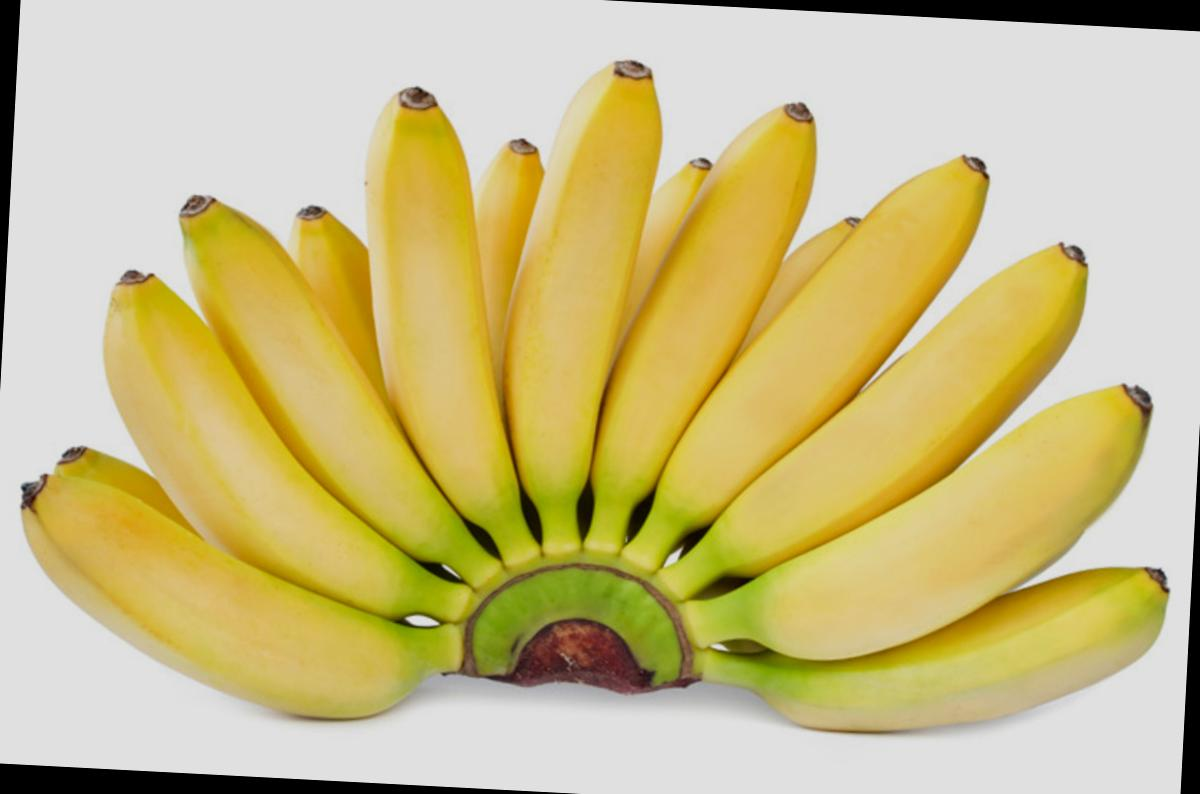Banana Ripe: (324, 21, 1198, 748), (14, 145, 574, 726)
